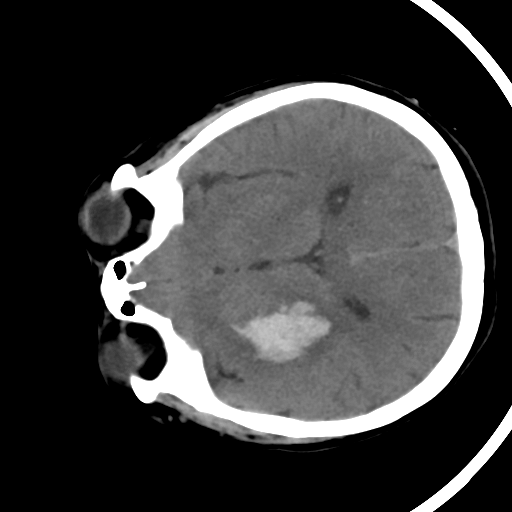a: (207, 282, 350, 382)
